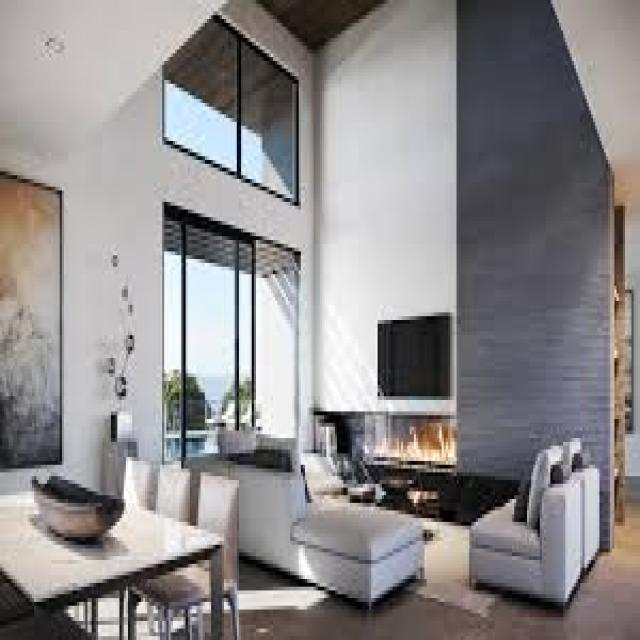Chair: (195, 463, 240, 605), (156, 458, 188, 560), (123, 444, 148, 538)
Sofa: (190, 416, 430, 595), (484, 429, 600, 568)
